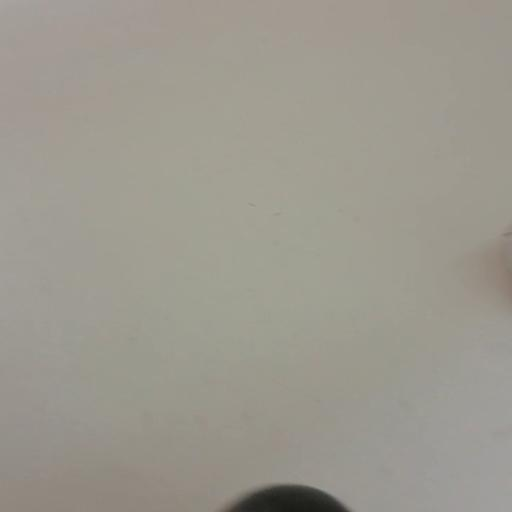dead: (209, 482, 361, 512)
